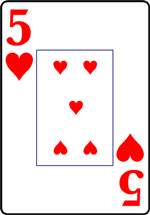five of hearts: (1, 2, 148, 212)
